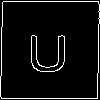U: (25, 25, 71, 73)
